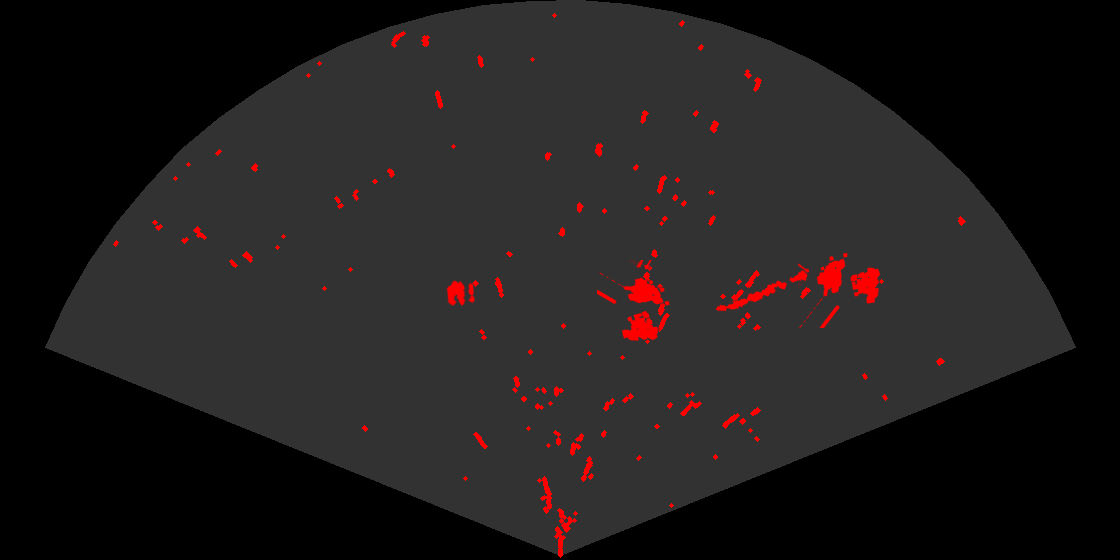ball: (445, 279, 476, 308)
cage: (798, 251, 882, 328), (597, 260, 671, 343)
chain: (714, 269, 810, 313)
